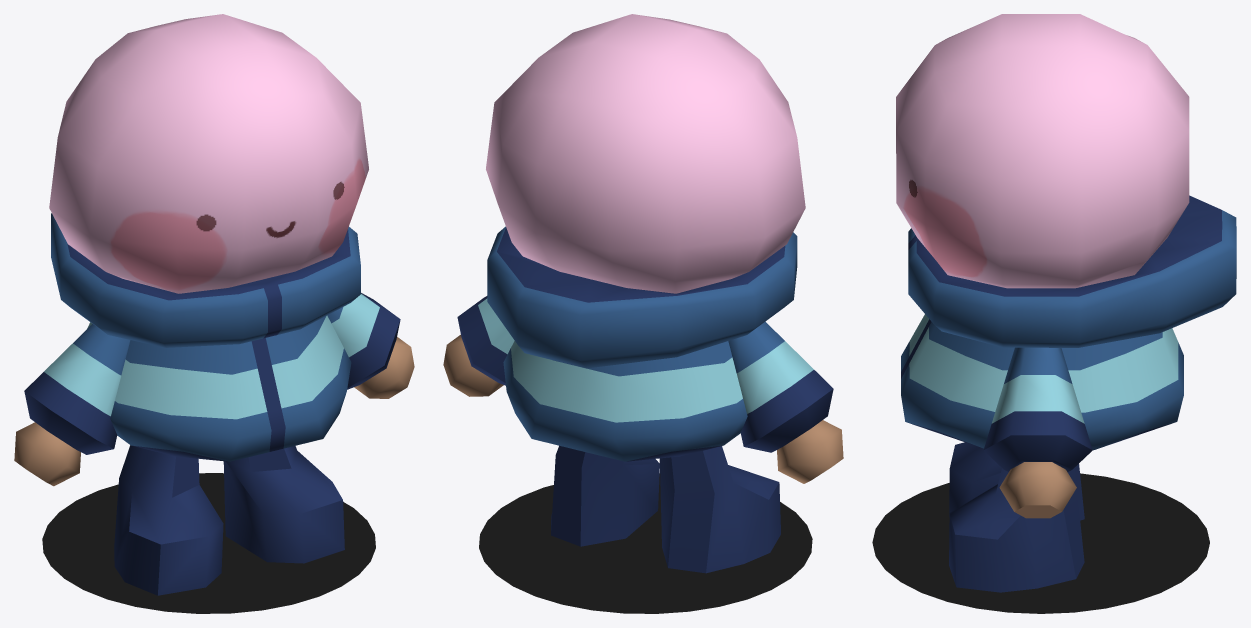
The model's file is Player2Sprite.fbx.
3 views of the same model, side by side, from view 1: azimuth 30°, elevation 25°; view 2: azimuth 150°, elevation 25°; view 3: azimuth 270°, elevation 25° (orthographic).
Parts seen in each view (by area): view 1: Player 2; view 2: Player 2; view 3: Player 2.
Part boxes in pixels (<box>): Player 2: <box>14,14,414,613</box>; Player 2: <box>443,14,843,613</box>; Player 2: <box>872,14,1236,613</box>.
Bounding box in the file's own units: 140 × 175 × 112.
Materials: 6 (1 with a texture image).
